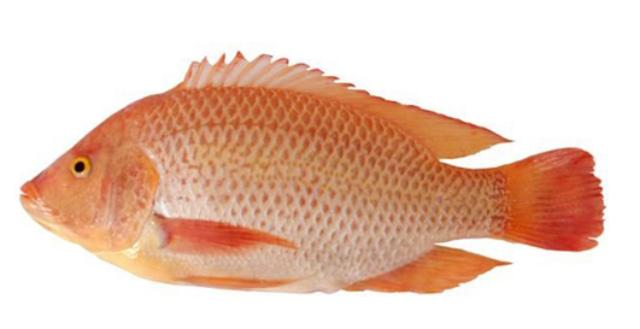Mulut: (4, 161, 64, 241)
Sirip Anal: (334, 240, 520, 302)
Sirip Dada: (142, 195, 308, 266)
Sirip Ekor: (482, 131, 622, 273)
Sirip Perut: (170, 268, 312, 302)
Sirip Punggung: (168, 36, 522, 171)
